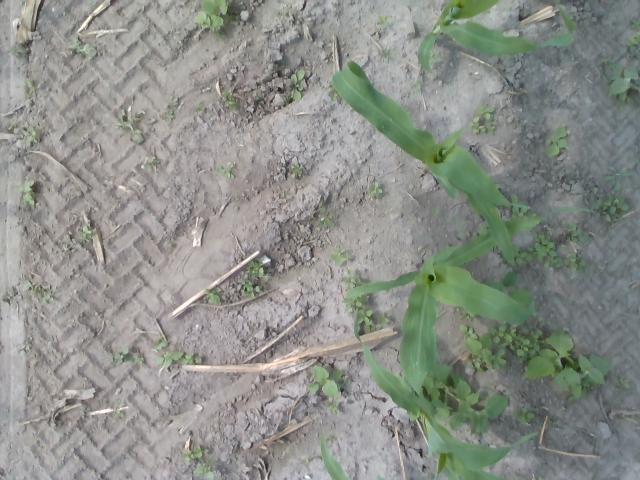Maize: (344, 208, 596, 400), (331, 59, 522, 266), (353, 311, 538, 480), (412, 0, 576, 75), (318, 429, 432, 480)
Weeds: (504, 320, 612, 404), (422, 362, 510, 436), (340, 269, 390, 336), (459, 324, 508, 373), (599, 56, 640, 114), (501, 232, 562, 270), (483, 270, 533, 308), (192, 0, 235, 39), (306, 365, 348, 399), (114, 108, 145, 144), (591, 196, 629, 224), (154, 350, 201, 370), (22, 278, 54, 306), (603, 164, 634, 191), (512, 406, 554, 425), (282, 70, 305, 104), (469, 105, 495, 135), (546, 124, 568, 158), (60, 226, 94, 246), (510, 193, 536, 218), (564, 220, 591, 244), (309, 204, 333, 228), (625, 18, 640, 56), (16, 180, 36, 207), (162, 94, 180, 122), (563, 253, 587, 274), (180, 444, 208, 462), (193, 458, 215, 480), (328, 247, 352, 267), (239, 278, 260, 298), (112, 347, 134, 366), (613, 374, 636, 392), (245, 259, 265, 278), (22, 125, 40, 146), (222, 88, 239, 110), (68, 40, 94, 54), (216, 162, 234, 180), (458, 306, 478, 321), (204, 286, 220, 304), (23, 78, 36, 99), (323, 84, 340, 100), (366, 181, 383, 196), (324, 400, 341, 415), (379, 47, 394, 63), (5, 44, 22, 56), (290, 162, 302, 178), (376, 14, 392, 26), (478, 220, 490, 234), (144, 156, 157, 168), (154, 338, 168, 349), (411, 80, 422, 90), (427, 52, 438, 62), (431, 206, 442, 216), (193, 103, 206, 111), (20, 344, 29, 354), (278, 11, 288, 20), (628, 413, 636, 421), (494, 182, 501, 190), (326, 436, 335, 442), (301, 458, 309, 464), (116, 411, 123, 416), (283, 194, 289, 199)
